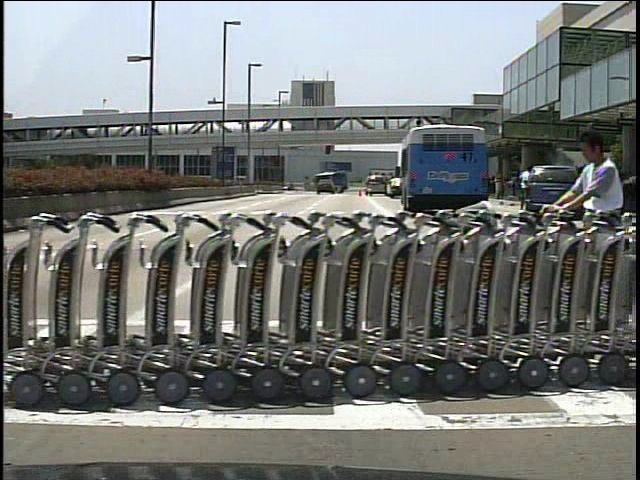person: (555, 126, 630, 356), (571, 163, 591, 226), (512, 162, 533, 213), (580, 165, 601, 214)
